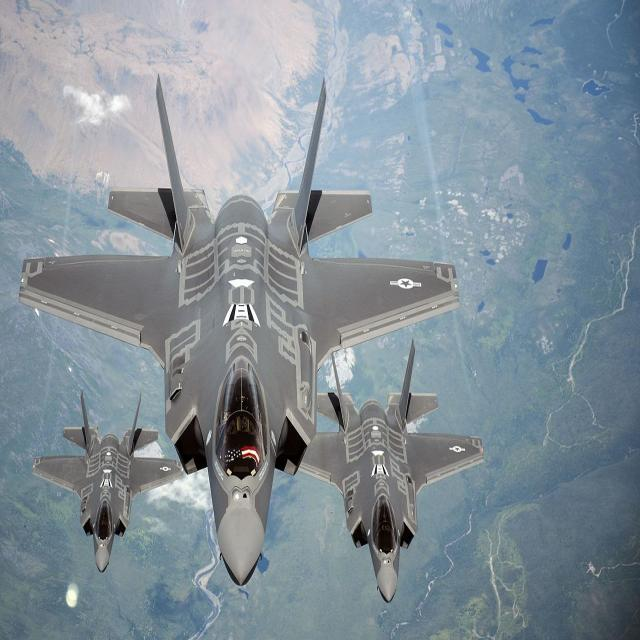MIL_Plane: (18, 73, 458, 586), (298, 338, 484, 603), (32, 388, 184, 573)
